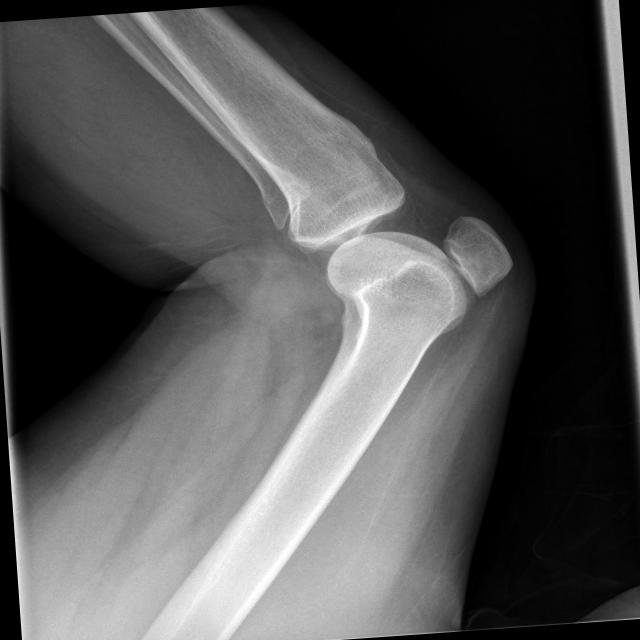Knee: (280, 162, 518, 336)
